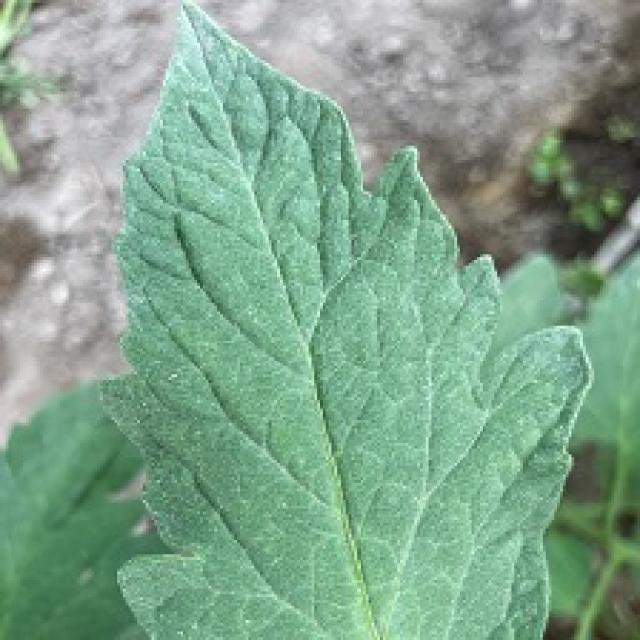Healthy: (72, 0, 626, 640)
